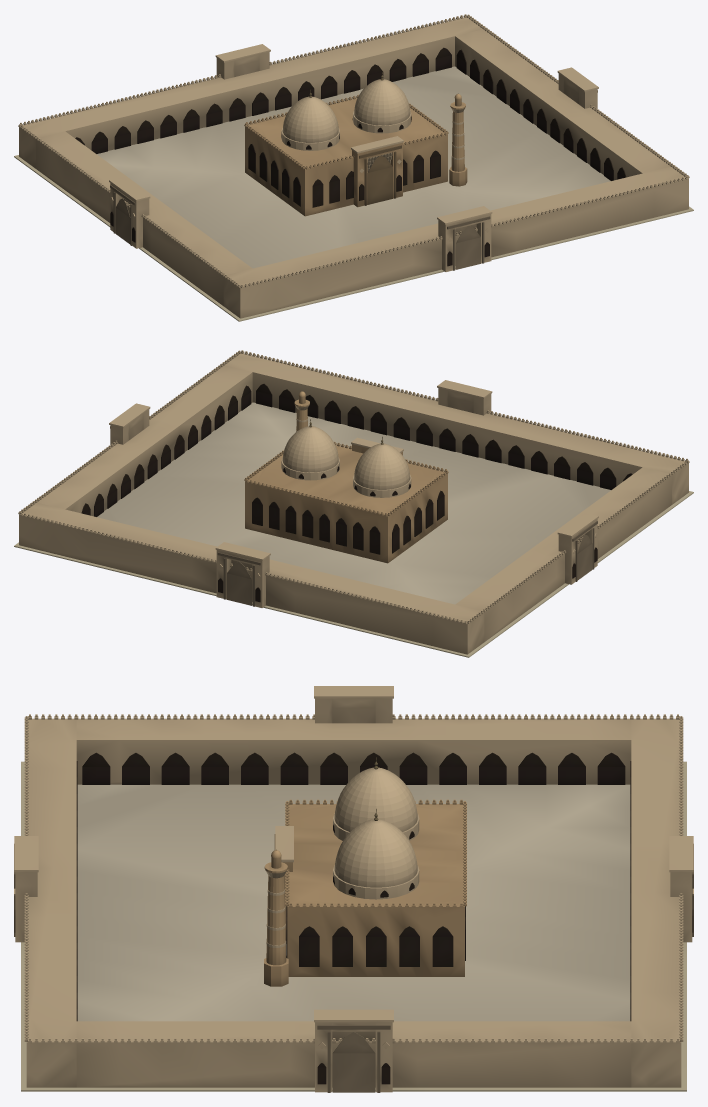
Rendered from kazimayn-1200.glb.
The picture shows the model from 3 angles, top to bottom: view 1: azimuth 30°, elevation 25°; view 2: azimuth 150°, elevation 25°; view 3: azimuth 270°, elevation 25°; orthographic projection. The views are drawn at different scales.
Visible parts, largest first — view 1: p0_court, p1_gates, p2_shrine, p3_domes; view 2: p0_court, p1_gates, p2_shrine, p3_domes; view 3: p0_court, p1_gates, p2_shrine, p3_domes.
Part boxes in pixels (x1=…): p0_court: x1=14, y1=14, x2=693, y2=321; p1_gates: x1=97, y1=44, x2=610, y2=271; p2_shrine: x1=244, y1=94, x2=448, y2=216; p3_domes: x1=281, y1=72, x2=467, y2=186; p0_court: x1=14, y1=350, x2=693, y2=657; p1_gates: x1=97, y1=380, x2=610, y2=607; p2_shrine: x1=244, y1=437, x2=448, y2=563; p3_domes: x1=281, y1=391, x2=411, y2=497; p0_court: x1=21, y1=714, x2=686, y2=1091; p1_gates: x1=14, y1=686, x2=693, y2=1092; p2_shrine: x1=274, y1=799, x2=466, y2=976; p3_domes: x1=264, y1=757, x2=419, y2=986.
Bounding box in the file's own units: 143 × 28.68 × 123.
